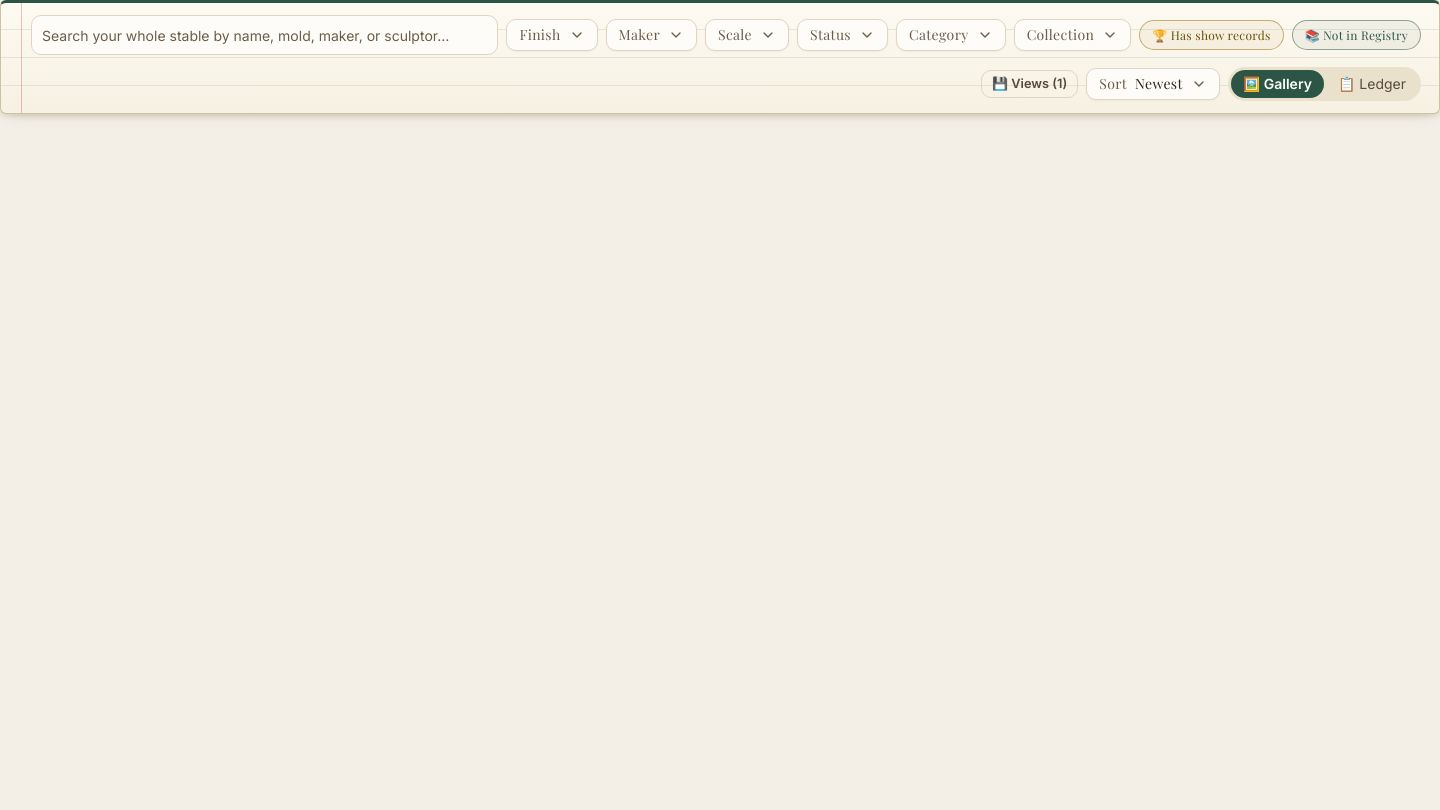
StableFilterBar › deletes a saved view
The width and height of the screenshot is (1440, 810).
Click the button "💾 Views (1)": (1030, 84) [981,70,1078,98]
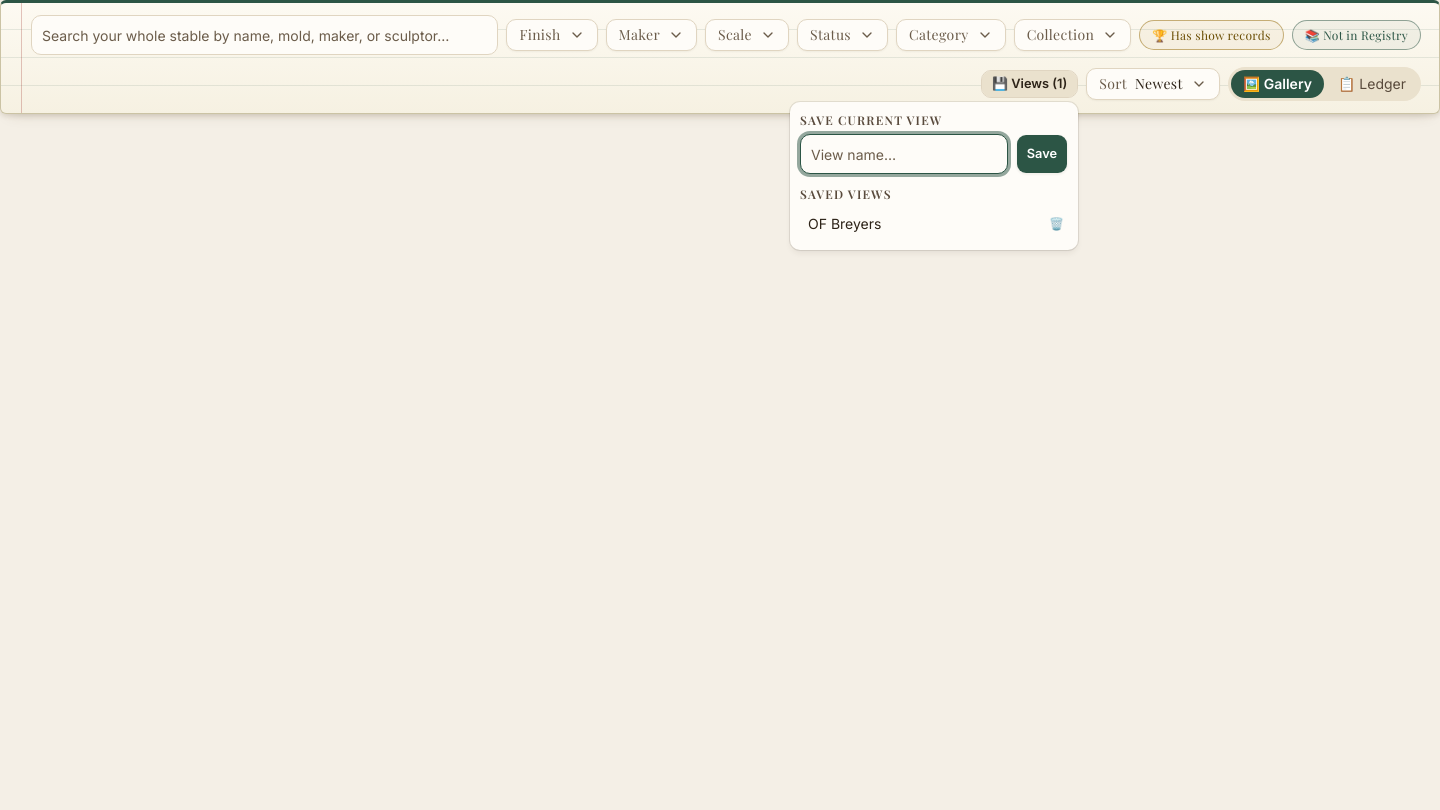
Click the button named "Delete view OF Breyers": (1056, 224) [1045,216,1068,232]
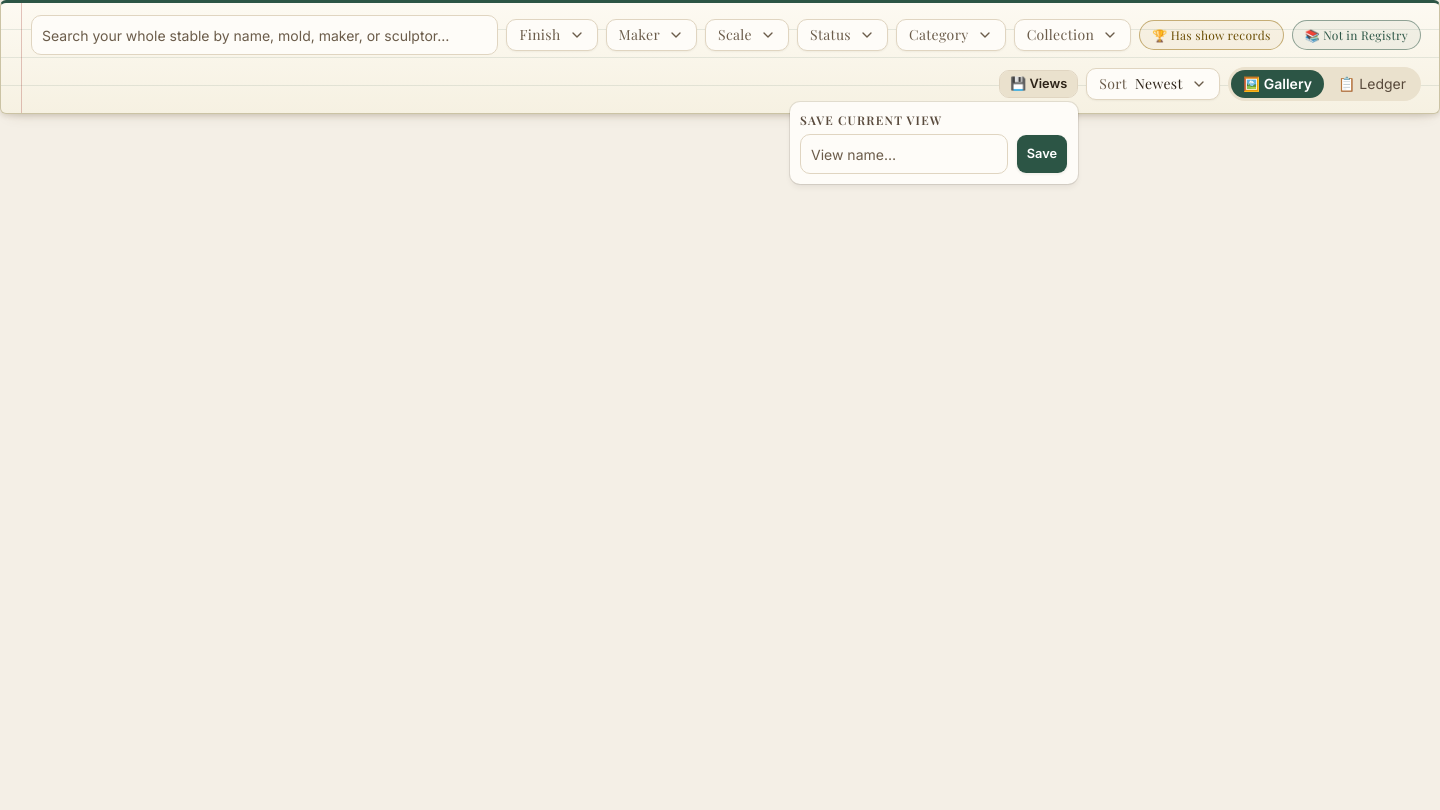
Expected: the button "OF Breyers" is gone
